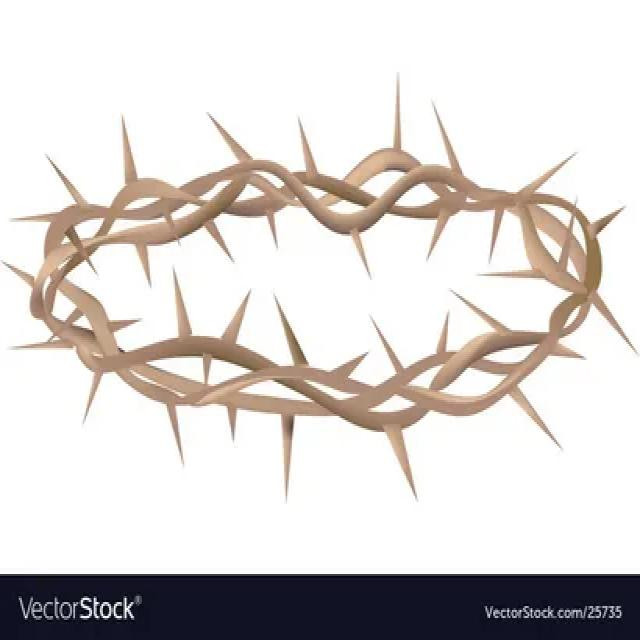crown: (3, 97, 640, 470)
